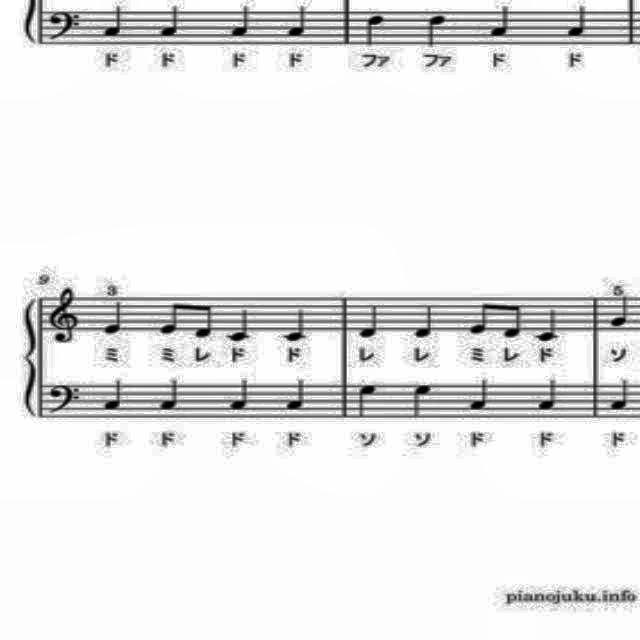Bass-clef: (44, 378, 86, 418), (46, 6, 86, 46)
Eighth-note: (466, 294, 494, 340), (154, 294, 182, 338), (501, 298, 527, 344), (192, 298, 216, 342)
Quarter-note: (224, 304, 256, 344), (410, 299, 440, 341), (280, 304, 310, 344), (533, 304, 563, 344), (487, 0, 517, 40), (408, 381, 436, 423), (100, 297, 128, 339), (564, 1, 592, 43), (355, 300, 383, 342), (354, 381, 381, 423), (284, 2, 312, 42), (282, 374, 310, 414), (228, 2, 256, 42), (158, 2, 186, 42), (360, 10, 388, 50), (534, 374, 562, 414), (100, 2, 128, 42), (606, 292, 634, 332), (422, 10, 450, 50), (465, 374, 493, 414), (606, 374, 634, 414), (228, 374, 256, 414), (102, 377, 130, 417), (156, 375, 184, 415)
Treble-clef: (45, 284, 85, 348)
